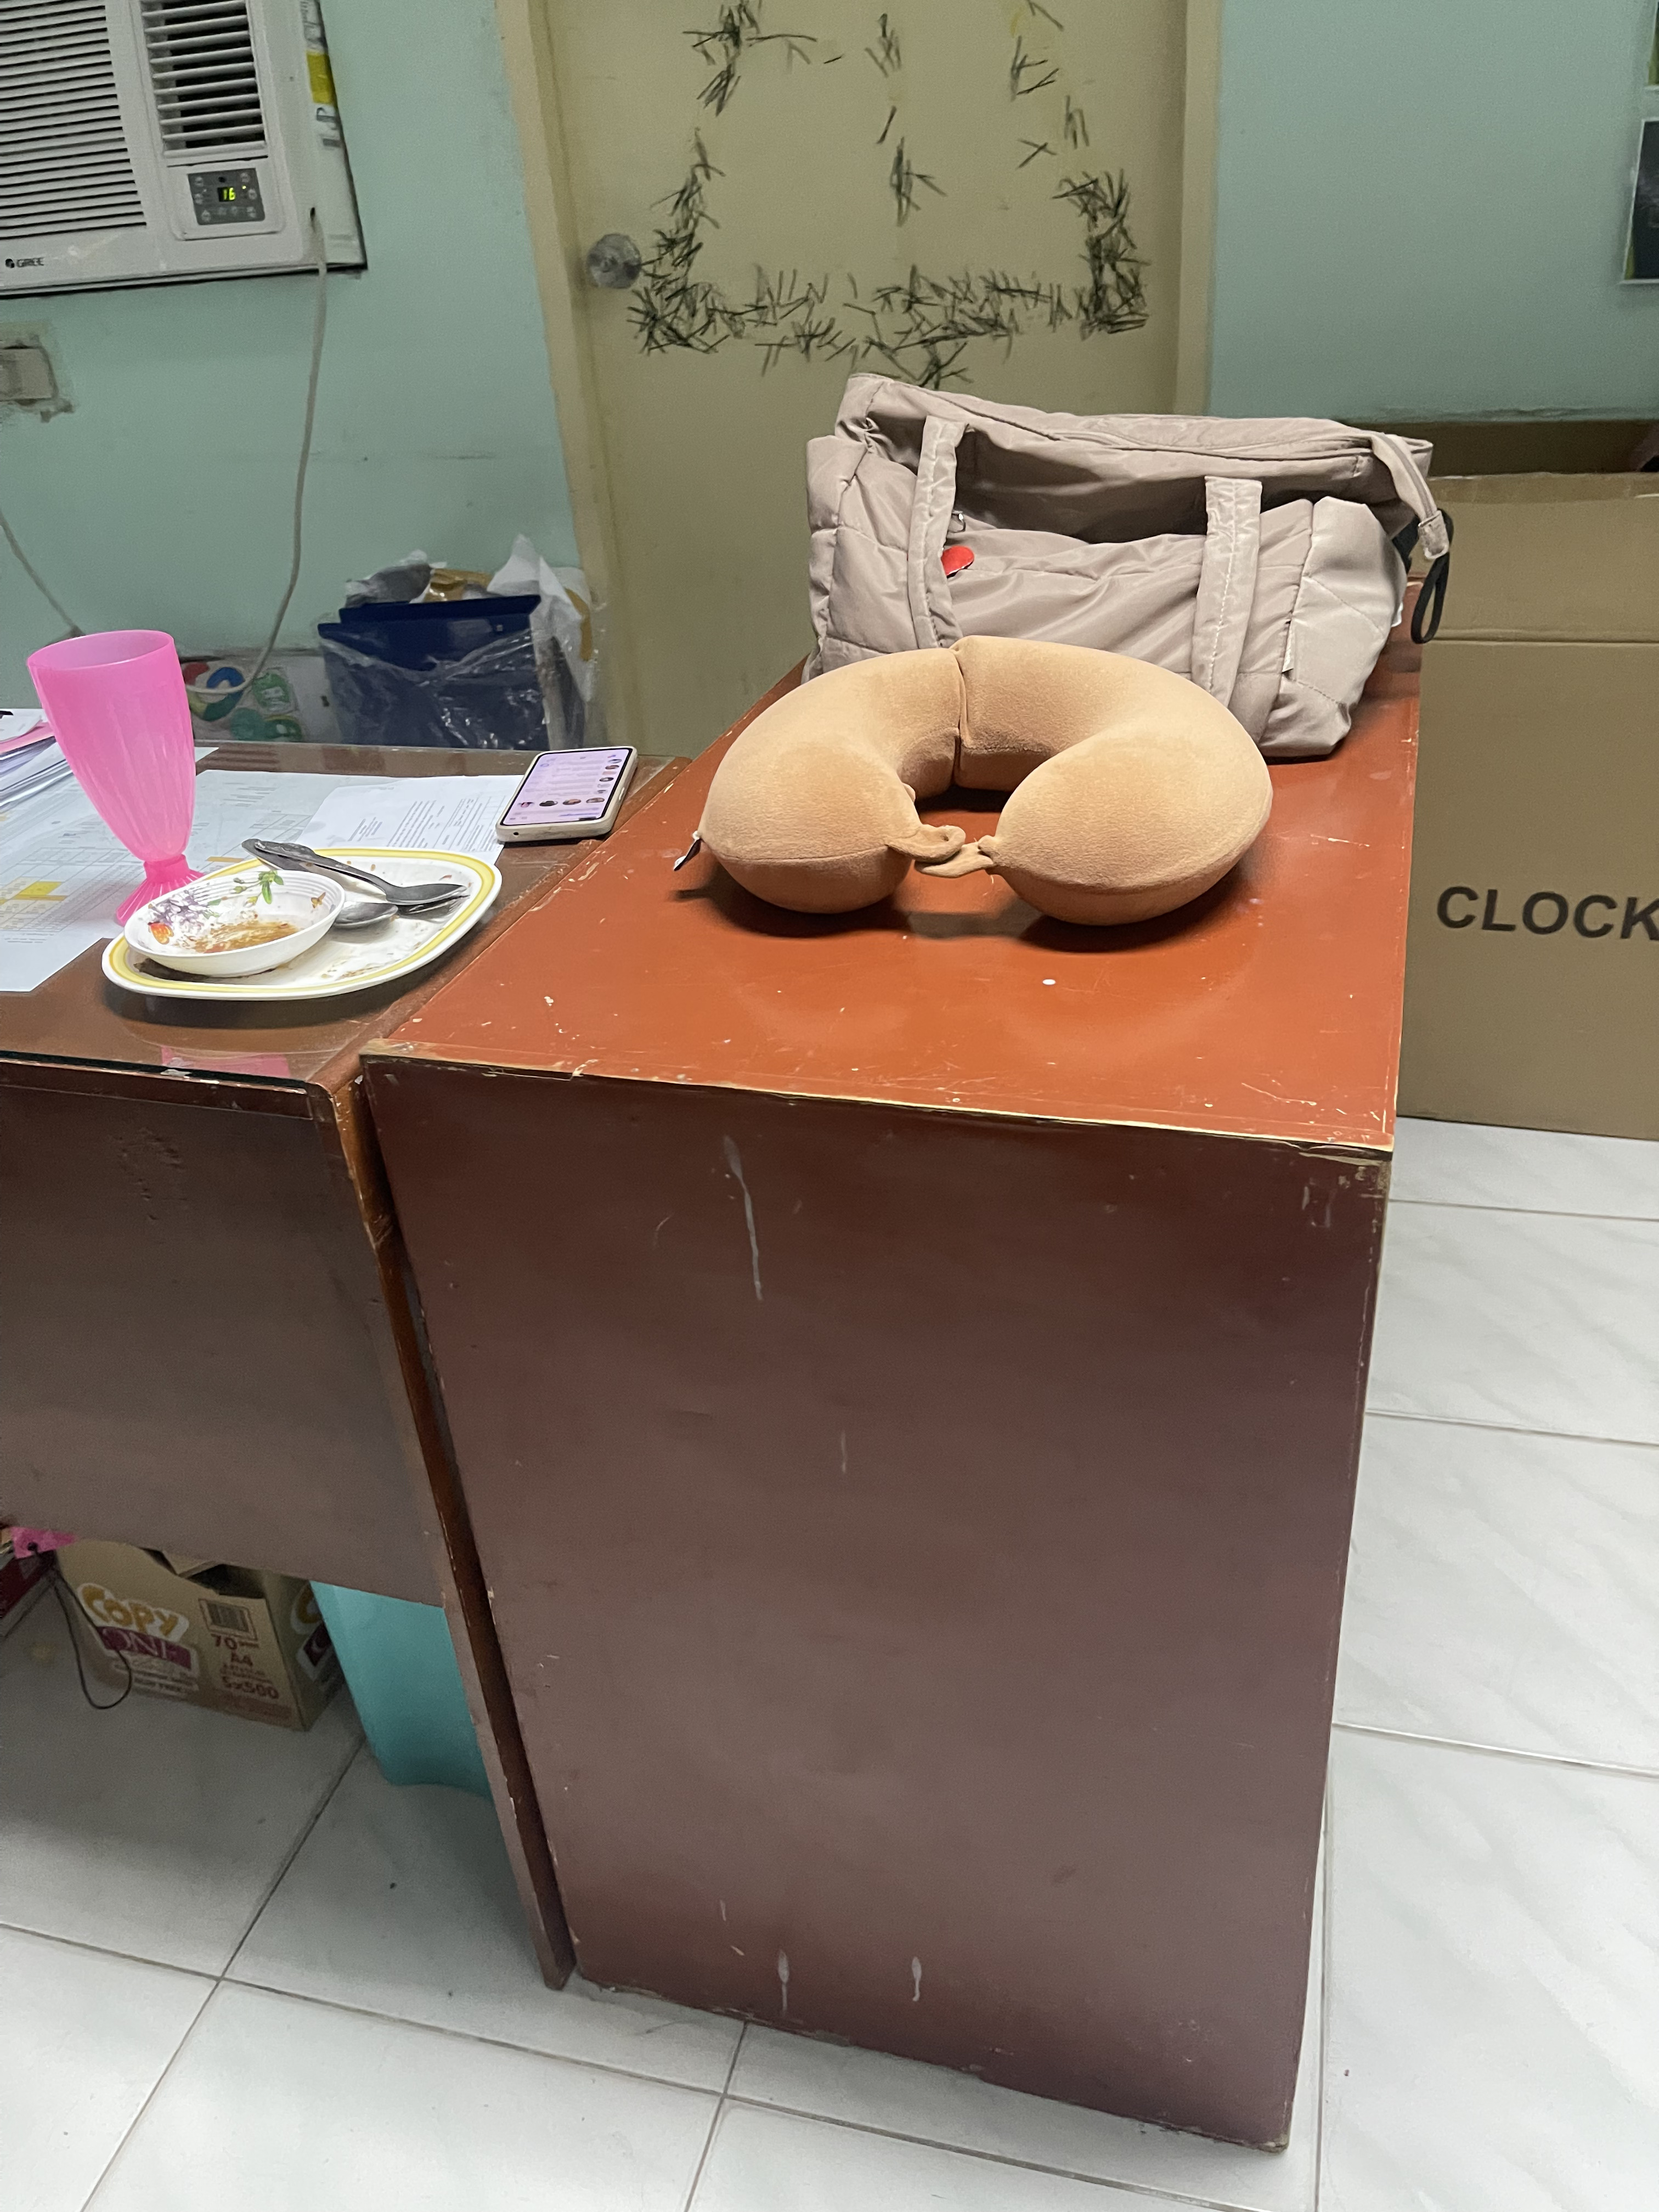table2: (0, 644, 1446, 2167)
